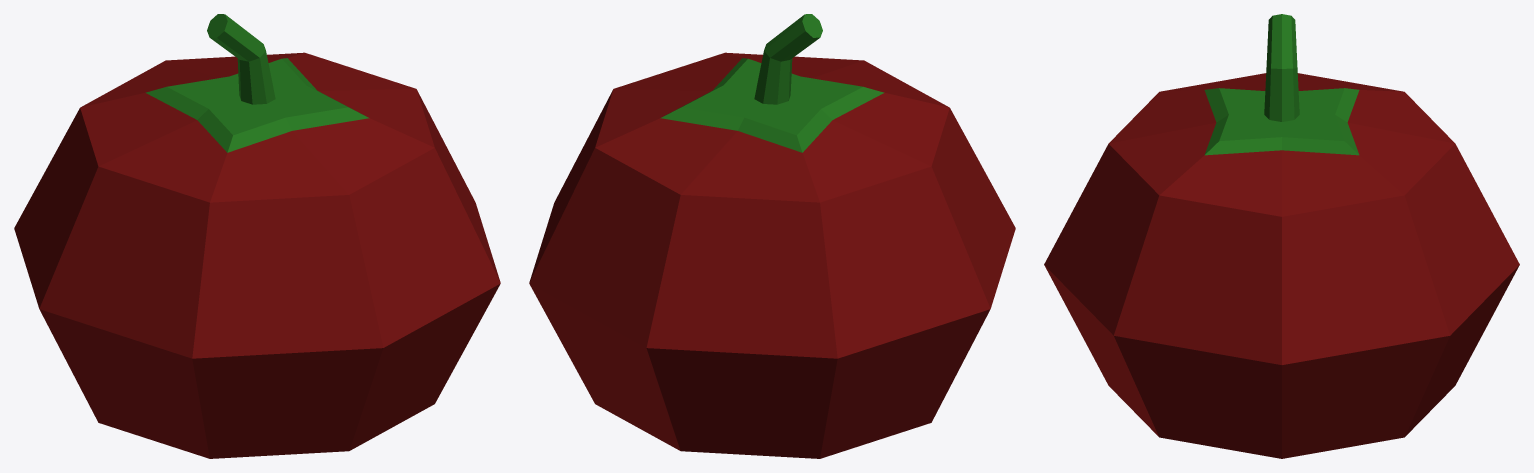
File: Tomato.fbx
3 renders of one model, left to right at view 1: azimuth 30°, elevation 25°; view 2: azimuth 150°, elevation 25°; view 3: azimuth 270°, elevation 25°, orthographic. The views are drawn at different scales.
Parts seen in each view (by area): view 1: Tommato; view 2: Tommato; view 3: Tommato.
Boxes of the visible parts, x1,y1,x2,y2 form: Tommato: (14,14,500,458); Tommato: (529,14,1015,458); Tommato: (1044,14,1519,458).
Bounding box in the file's own units: 0.6202 × 0.585 × 0.6202.
